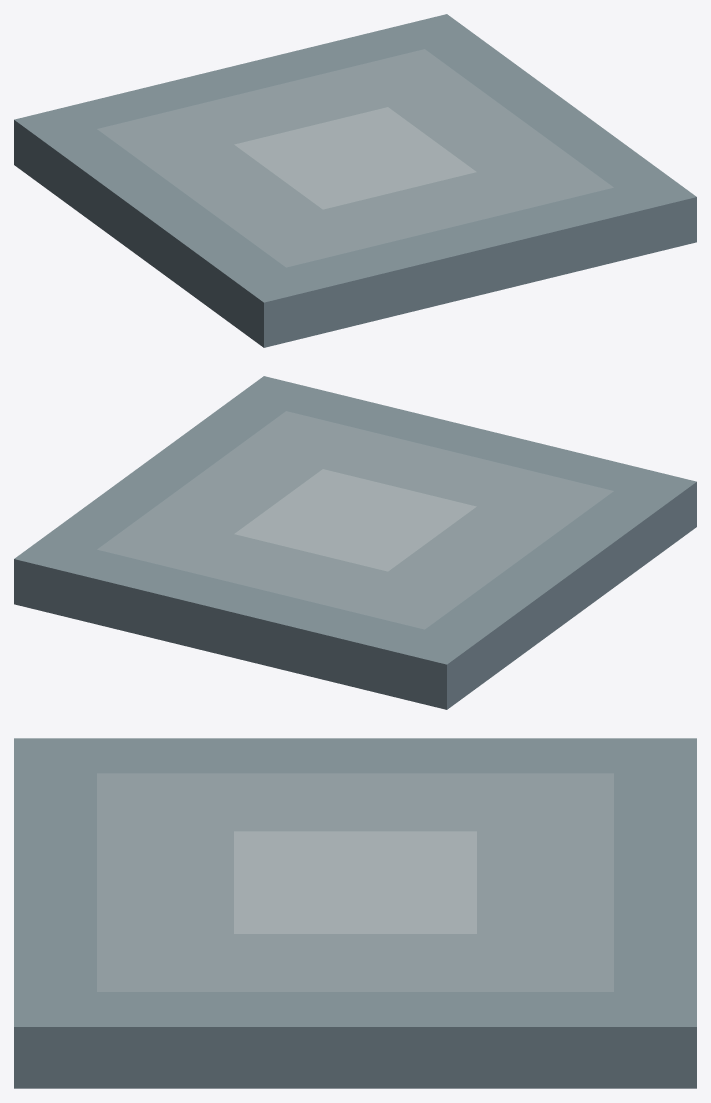
File: TileBlank.fbx
The picture shows the model from 3 angles, top to bottom: view 1: azimuth 30°, elevation 25°; view 2: azimuth 150°, elevation 25°; view 3: azimuth 270°, elevation 25°; orthographic projection. The views are drawn at different scales.
Visible parts, largest first — view 1: Cube; view 2: Cube; view 3: Cube.
Boxes of the visible parts, x1,y1,x2,y2 form: Cube: (14,14,696,347); Cube: (14,376,696,709); Cube: (14,738,696,1088).
Bounding box in the file's own units: 100 × 10 × 100.
